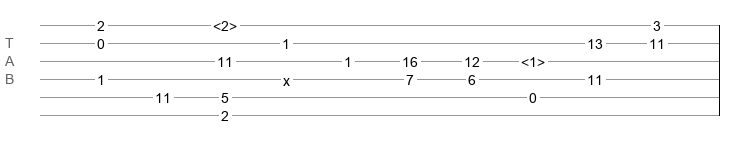0: (97, 36, 105, 46), (529, 90, 537, 100)
1: (97, 72, 105, 82), (282, 36, 290, 46), (344, 54, 352, 64)
11: (155, 90, 171, 100), (217, 54, 233, 64), (587, 72, 603, 82), (649, 36, 665, 46)
12: (464, 54, 480, 64)
13: (587, 36, 603, 46)
16: (402, 54, 418, 64)
2: (97, 18, 105, 28), (221, 108, 229, 118)
3: (653, 18, 661, 28)
5: (221, 90, 229, 100)
6: (468, 72, 476, 82)
7: (406, 72, 414, 82)
harmonic: (213, 18, 237, 28), (521, 54, 545, 64)
x: (283, 73, 290, 81)
